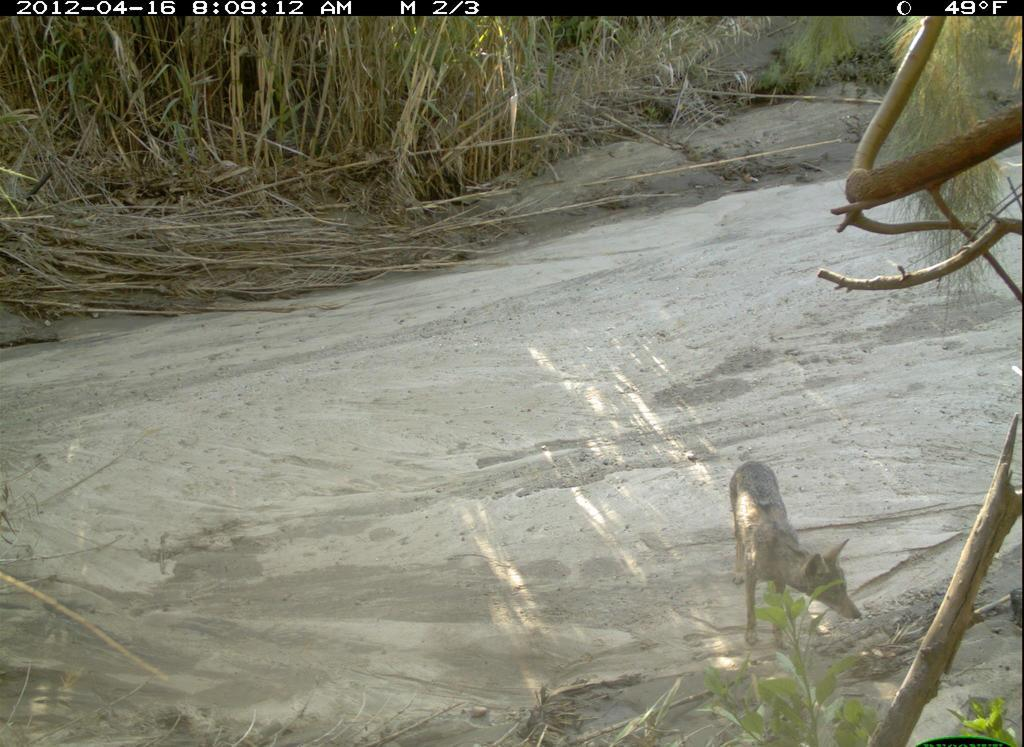coyote: (713, 452, 875, 643)
